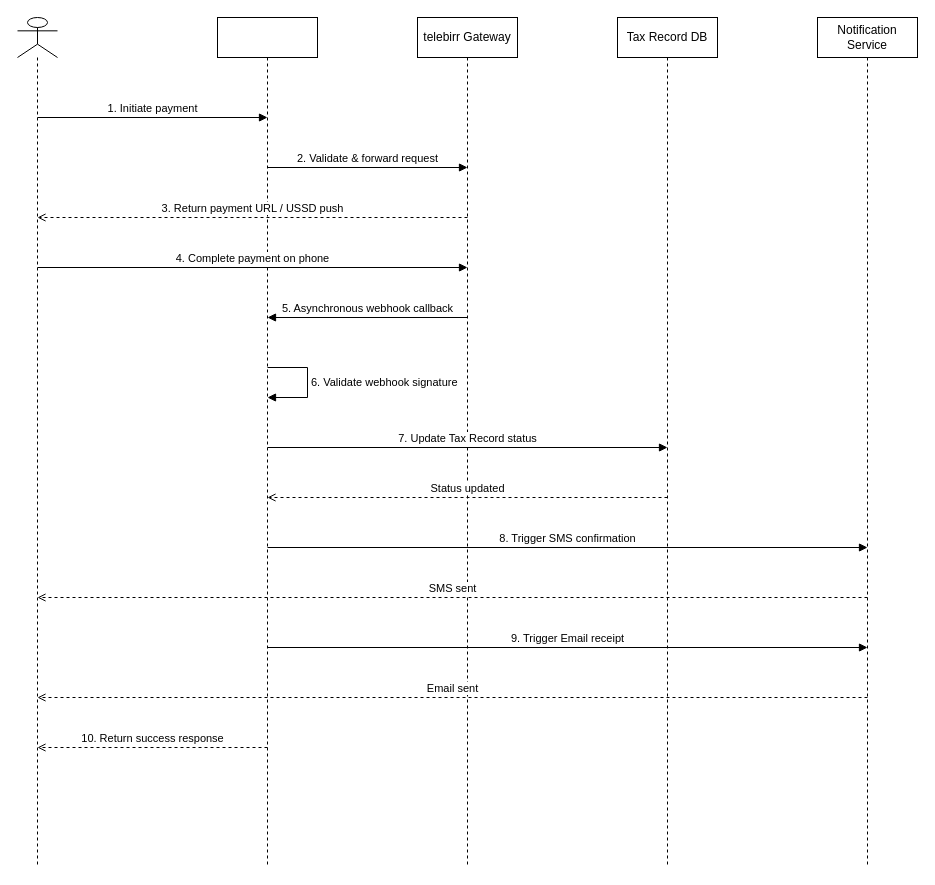
Some shapes in this 935 by 885 pixel diagram are drawn without their labels. The box of each missing label's shape, as (x1, y1, x2, y2) in pixels:
Citizen: (16, 16, 58, 868)
DLPMS Backend: (216, 16, 318, 868)
